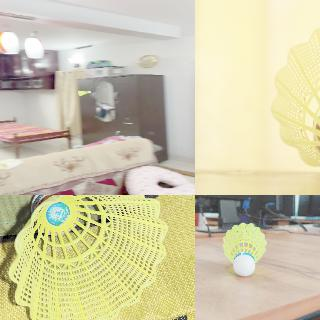shuttlecock: (8, 195, 167, 319), (270, 18, 319, 178), (221, 222, 267, 276), (77, 90, 90, 96)
